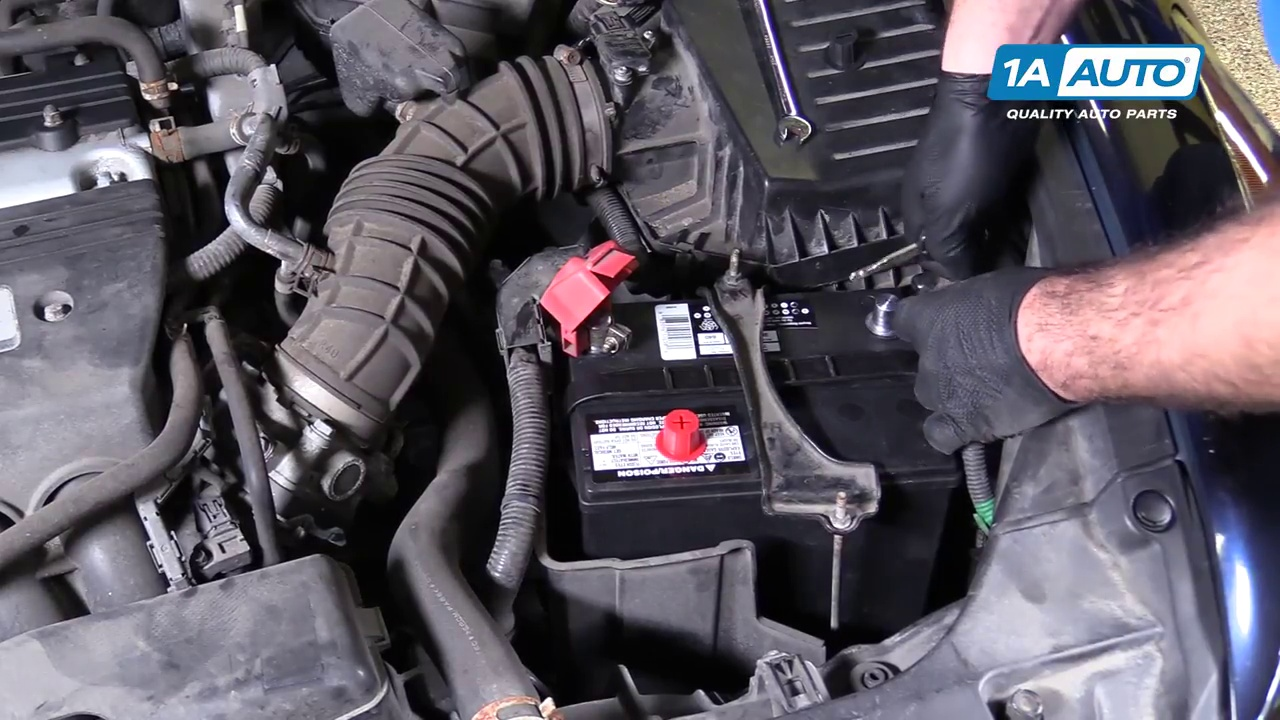battery: (556, 275, 966, 490)
neg_disconnected: (846, 269, 931, 355)
neg_touched: (839, 246, 969, 391)
pos_connected: (528, 249, 643, 372)
